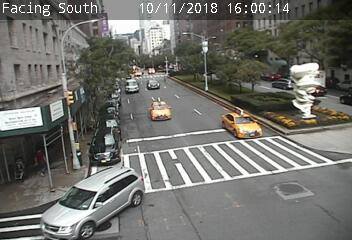car: (41, 166, 143, 240), (221, 112, 263, 139), (150, 101, 171, 120), (147, 80, 160, 90)
